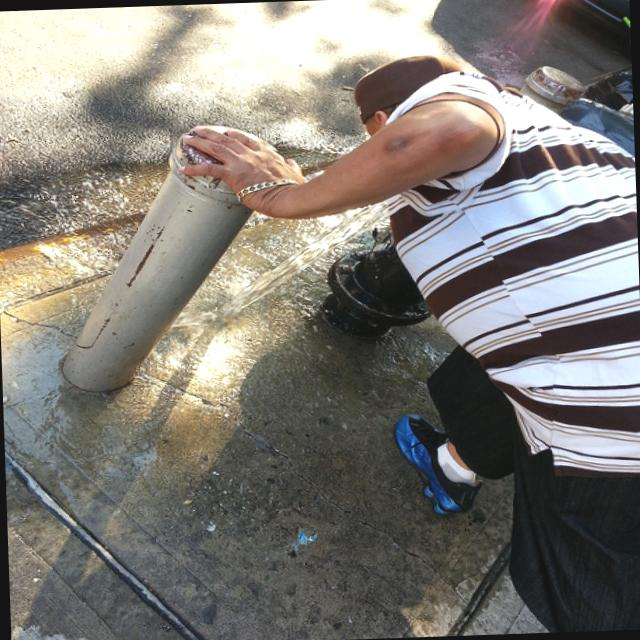Vehicle: (492, 0, 630, 41)
